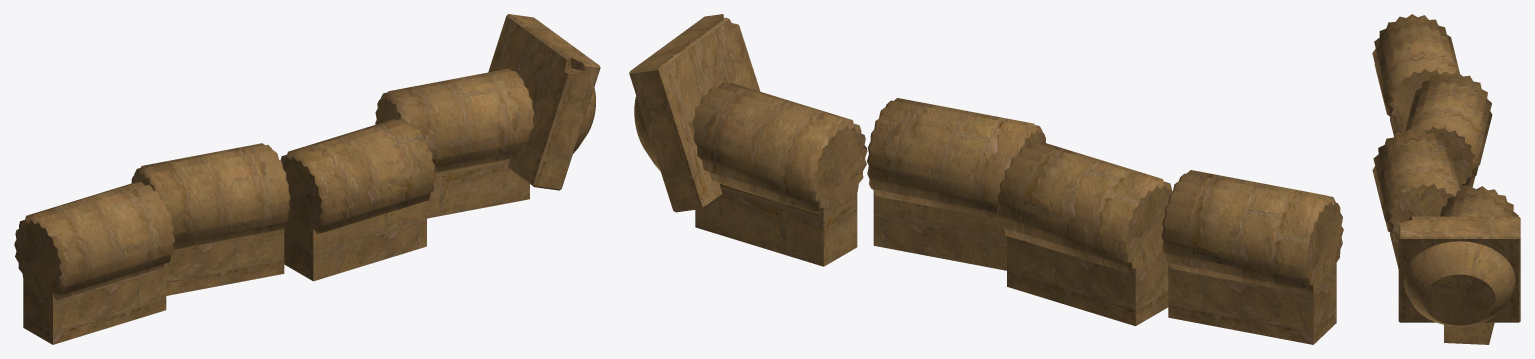
The model's file is column_fallen.glb.
The picture shows the model from 3 angles, left to right: view 1: azimuth 30°, elevation 25°; view 2: azimuth 150°, elevation 25°; view 3: azimuth 270°, elevation 25°; orthographic projection. The views are drawn at different scales.
Parts seen in each view (by area): view 1: column_fallen; view 2: column_fallen; view 3: column_fallen.
Boxes of the visible parts, left/top/right/bottom form: column_fallen: left=14, top=14, right=600, bottom=344; column_fallen: left=629, top=14, right=1343, bottom=344; column_fallen: left=1372, top=14, right=1520, bottom=344.
Bounding box in the file's own units: 6.64 × 1.65 × 1.64.
1 material, 1 textured.
